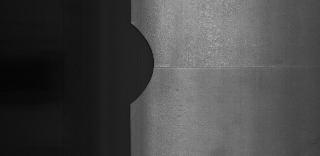welding line: (153, 61, 320, 73)
